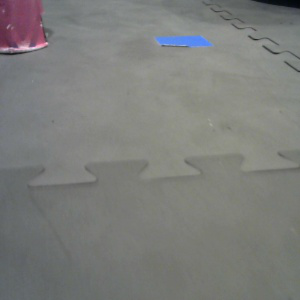middle: (1, 1, 49, 54)
